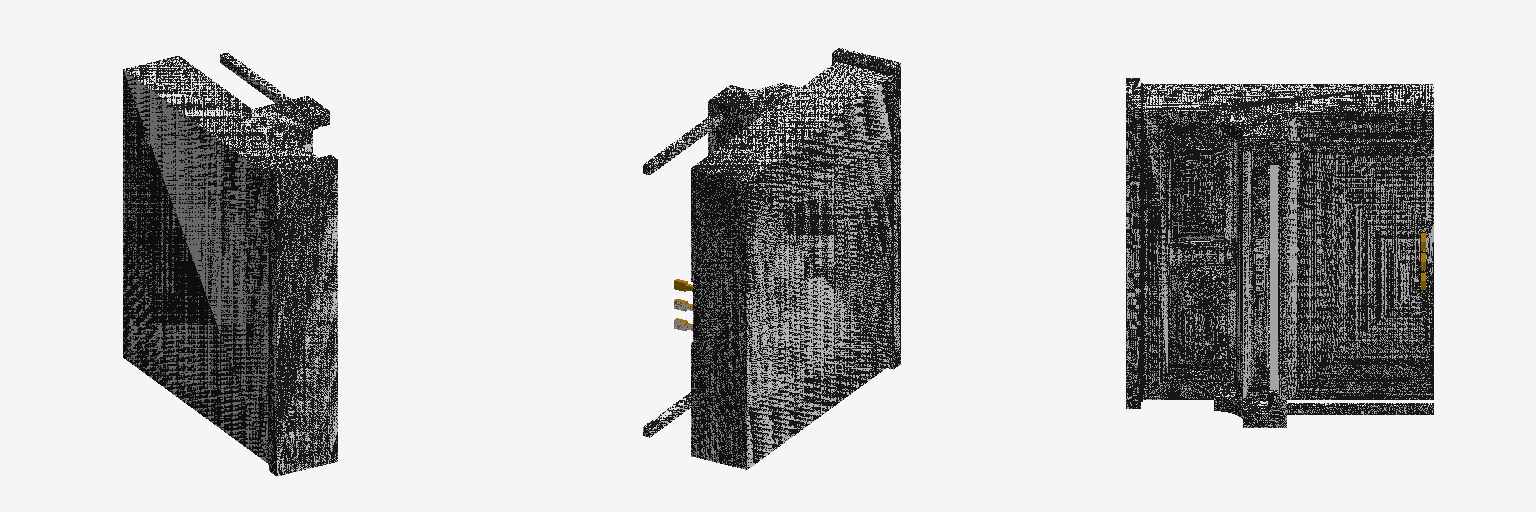
Rendered from Apartment_robot_blender.obj.
The picture shows the model from 3 angles: view 1: azimuth 30°, elevation 25°; view 2: azimuth 150°, elevation 25°; view 3: azimuth 270°, elevation 25°; orthographic projection.
Parts seen in each view (by area): view 1: instance_0_ID3, instance_0.008_ID59; view 2: instance_0_ID3, instance_0.008_ID59, instance_0.007_ID53.001; view 3: instance_0_ID3, instance_0.001_ID15, instance_0.002_ID21, instance_0.003_ID27, instance_0.007_ID53.001, instance_0.008_ID59, instance_0.005_ID41.001, instance_0.006_ID47.001, instance_0.024_ID157.
Boxes of the visible parts, x1,y1,x2,y2 form: instance_0_ID3: [123, 56, 337, 475]; instance_0.008_ID59: [220, 53, 291, 102]; instance_0_ID3: [691, 48, 900, 469]; instance_0.008_ID59: [643, 112, 722, 174]; instance_0.007_ID53.001: [643, 392, 690, 437]; instance_0_ID3: [1126, 78, 1433, 427]; instance_0.001_ID15: [1170, 268, 1228, 372]; instance_0.002_ID21: [1170, 137, 1228, 241]; instance_0.003_ID27: [1270, 165, 1277, 389]; instance_0.007_ID53.001: [1287, 403, 1433, 414]; instance_0.008_ID59: [1287, 141, 1433, 152]; instance_0.005_ID41.001: [1168, 267, 1230, 375]; instance_0.006_ID47.001: [1168, 136, 1230, 244]; instance_0.024_ID157: [1141, 83, 1142, 401].
Size of the model in its own units: 23.1 by 59.34 by 54.81.